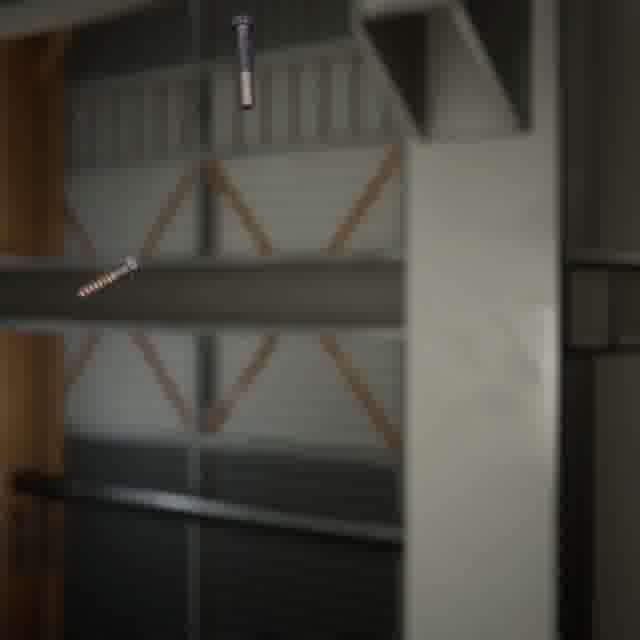bolt: (72, 248, 147, 304), (224, 10, 260, 114)
